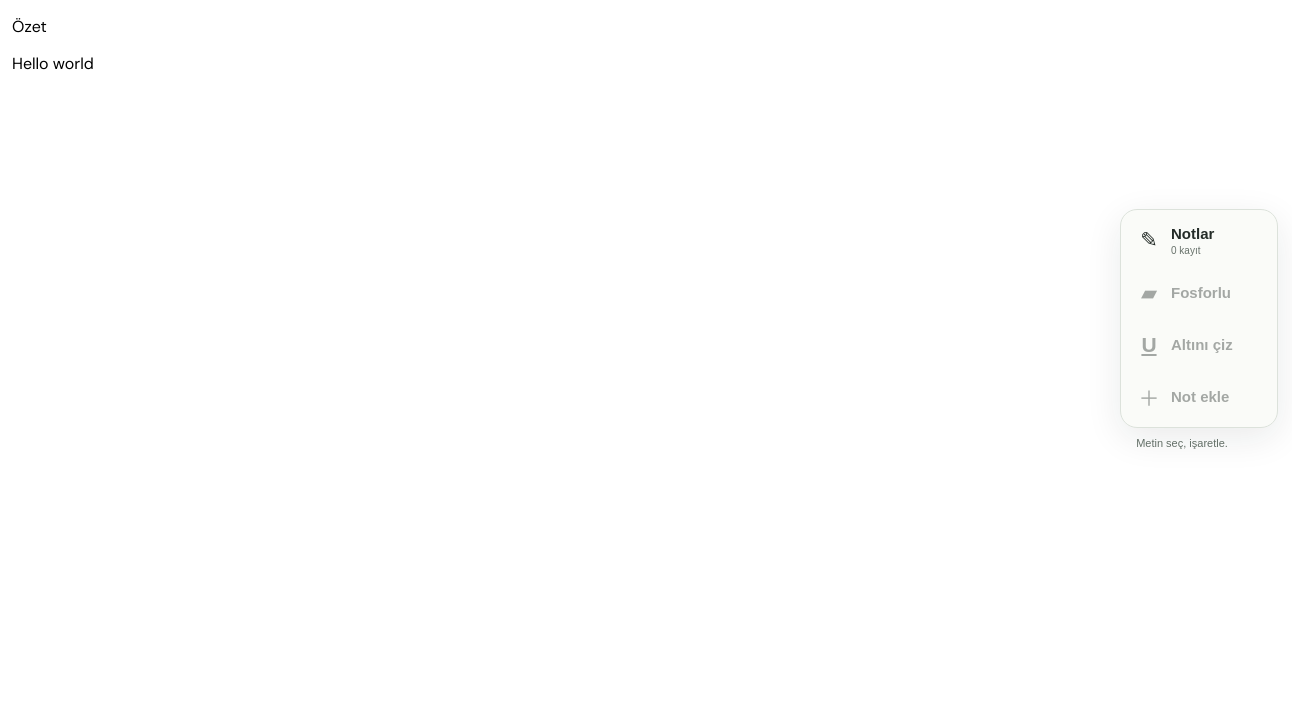
Test case: imports guest marks only when the member asks, translating legacy anchors
This screenshot has width=1292, height=720.
Check: the text "0 kayıt" is shown, box [1171,245,1200,256]
What coordinates should you click on to do the following:
click the button "✎ Notlar 0 kayıt"
I would click on:
 (1199, 240)
Its box is [1127,216,1271,265].
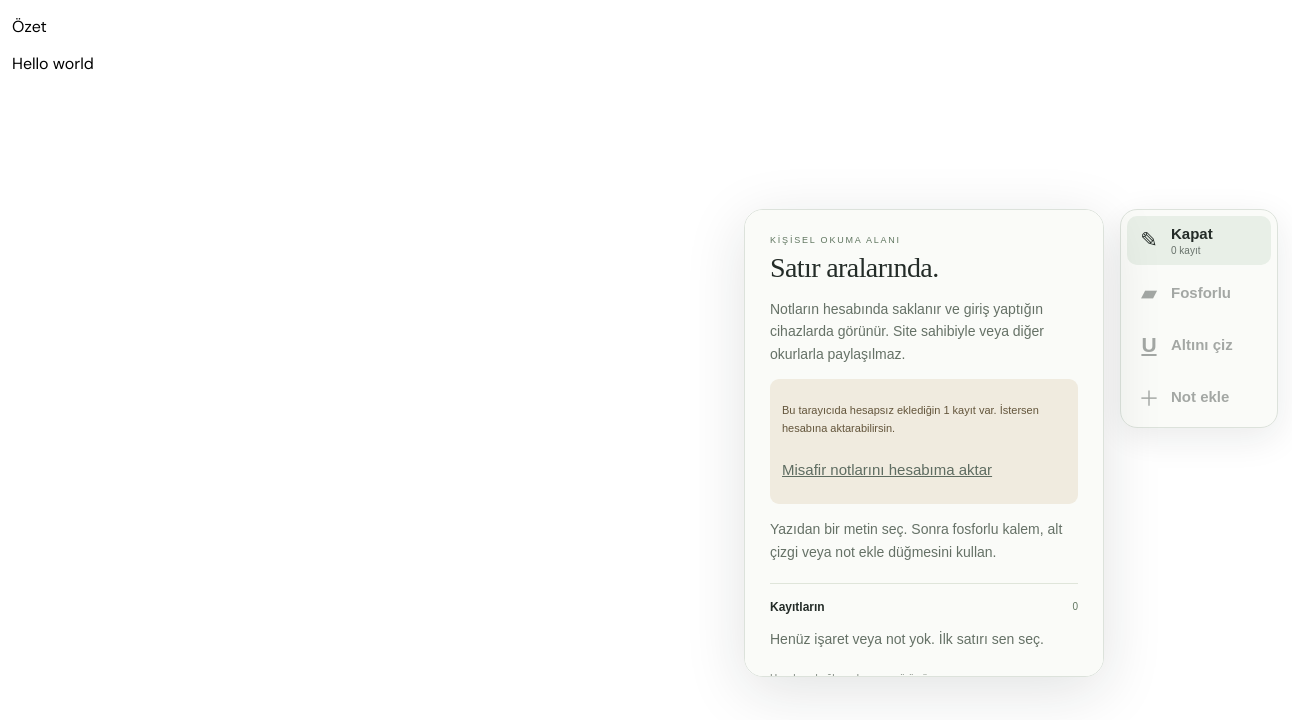
What coordinates should you click on to do the following:
click the button "Misafir notlarını hesabıma aktar"
I would click on:
 (887, 470)
Its box is [782,448,992,492].
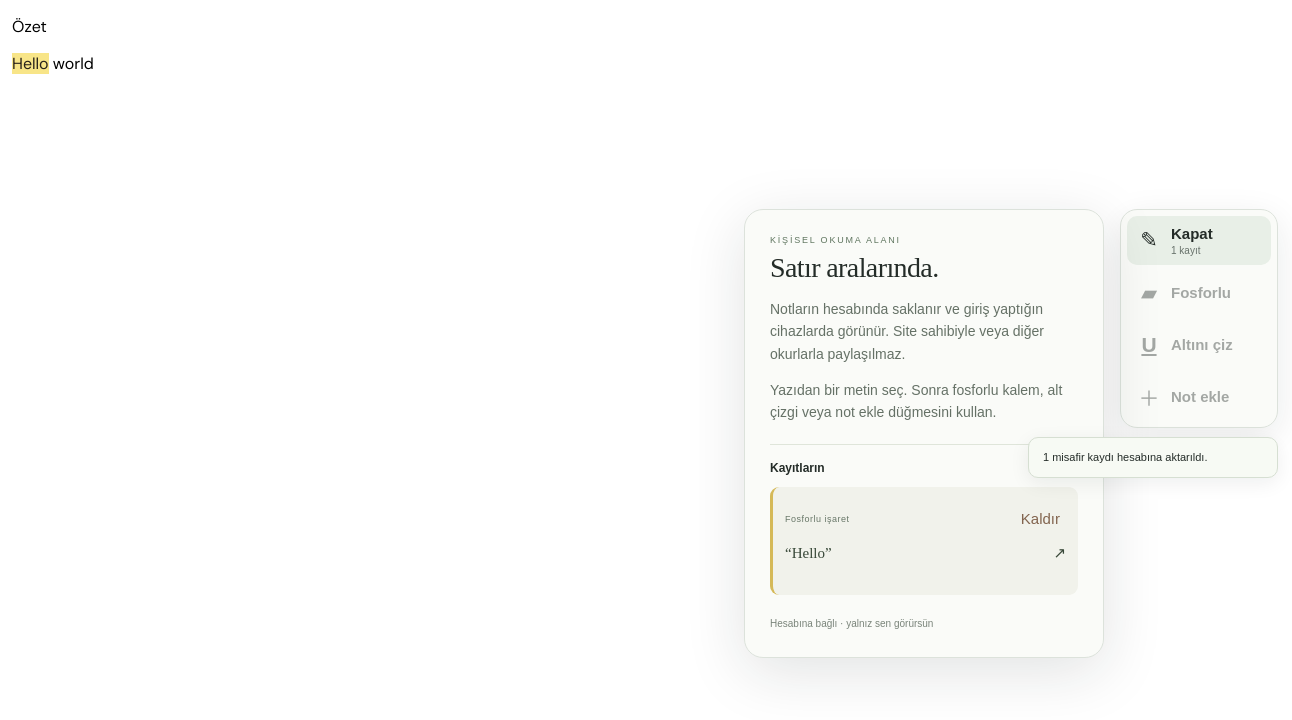
Check: the text "1 kayıt" is shown, box [1171,245,1200,256]
Check: the button "Misafir notlarını hesabıma aktar" is gone
